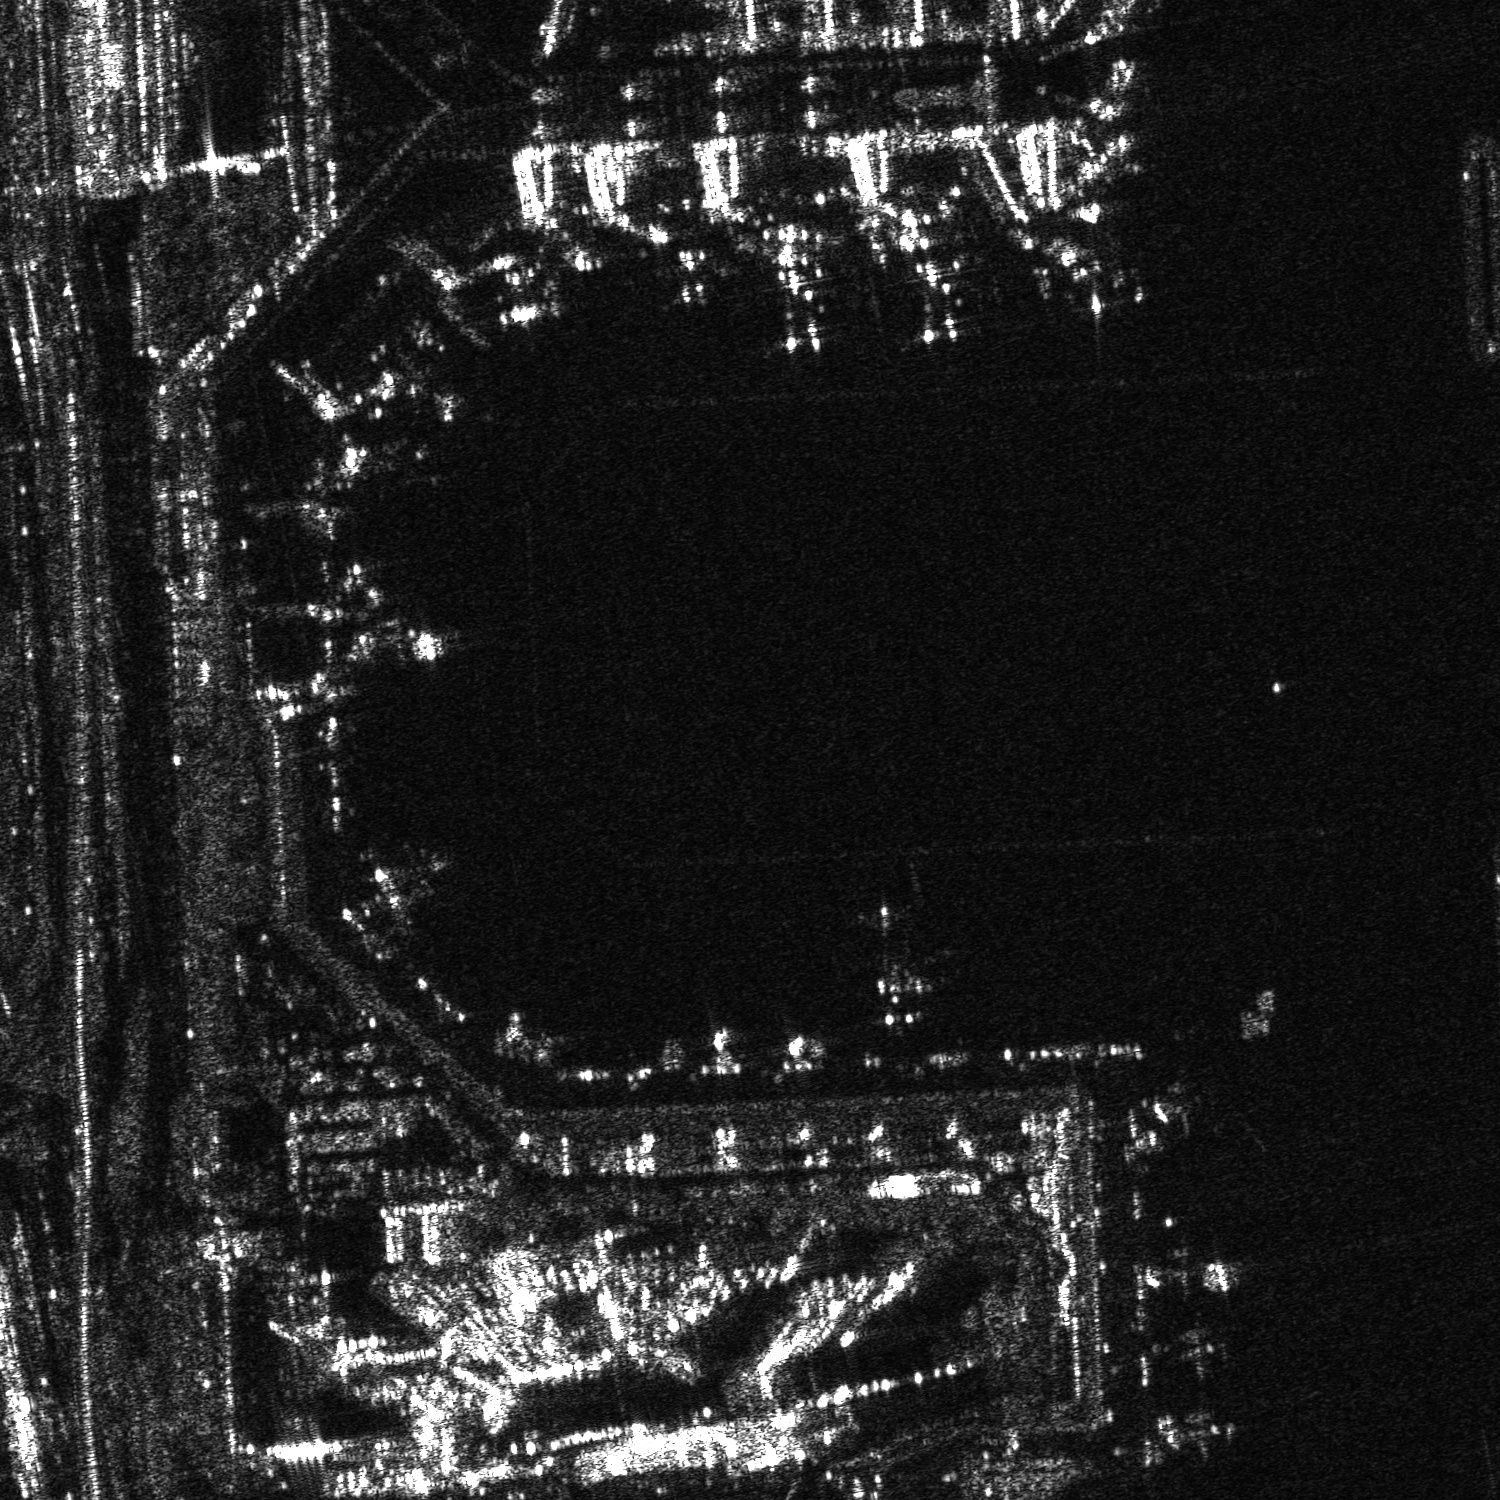A220: (352, 839, 455, 930), (1141, 1228, 1247, 1298), (1147, 1400, 1247, 1467), (1146, 1323, 1245, 1387), (650, 240, 731, 310)
A320/321: (324, 582, 452, 670), (387, 363, 468, 429)
Boeing737: (1023, 229, 1137, 330)
Boeing787: (738, 238, 848, 360), (860, 902, 941, 1036)
other: (889, 227, 989, 345)
